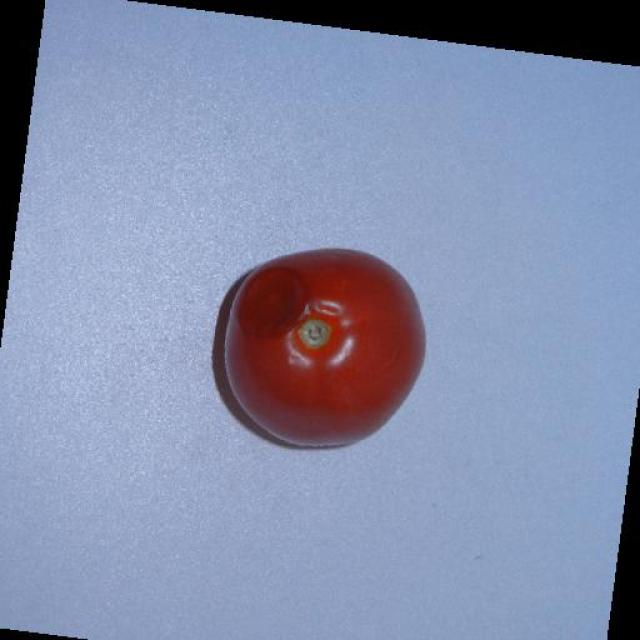Stale_tomato: (224, 231, 442, 452)
